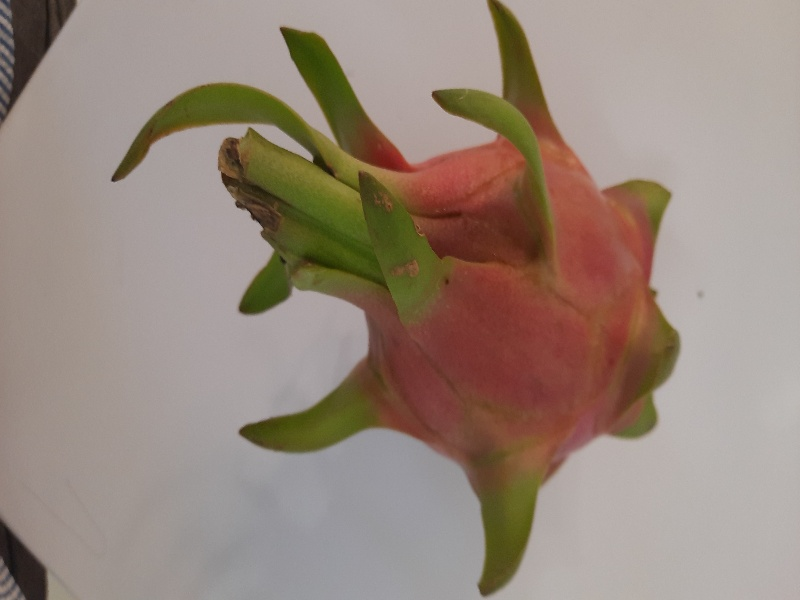fruit: (100, 17, 699, 592)
